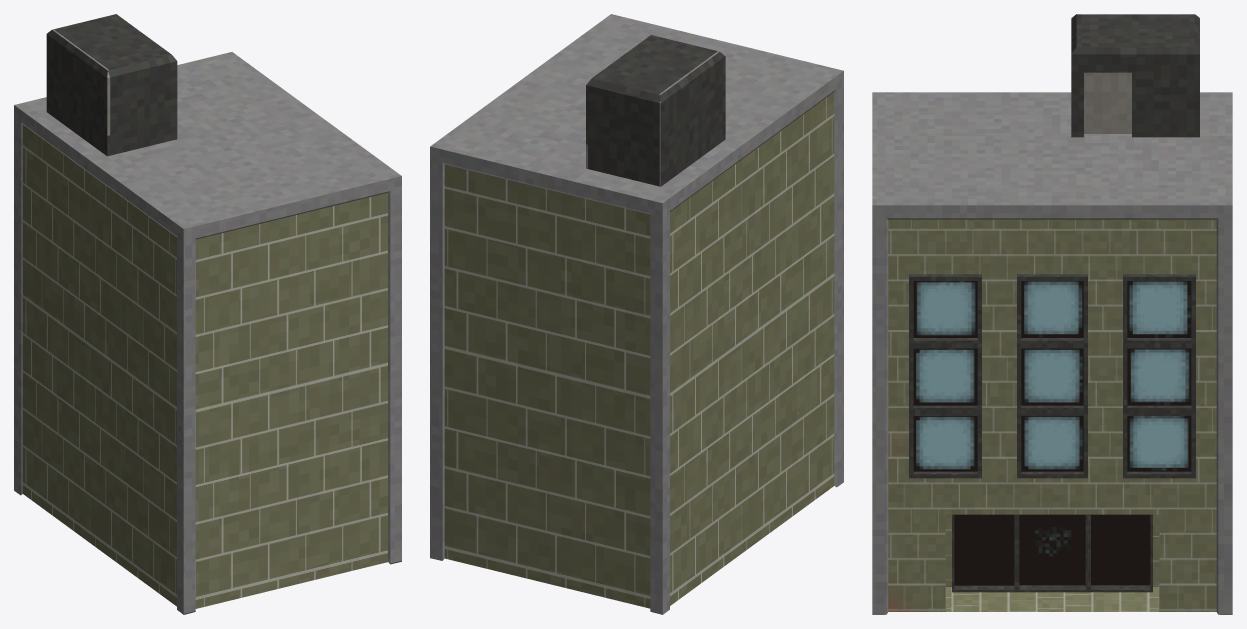
Rendered from build1c1.glb.
3 views of the same model, side by side, from view 1: azimuth 30°, elevation 25°; view 2: azimuth 150°, elevation 25°; view 3: azimuth 270°, elevation 25° (orthographic). The views are drawn at different scales.
Visible parts, largest first — view 1: Cube, roof; view 2: Cube, roof; view 3: front, roof, window, contourfen.
Part boxes in pixels (x1,y1,x2,y2): Cube: [23, 125, 387, 608]; roof: [14, 14, 401, 614]; Cube: [444, 92, 834, 608]; roof: [430, 14, 843, 614]; front: [888, 219, 1216, 611]; roof: [872, 14, 1232, 614]; window: [913, 281, 1191, 585]; contourfen: [909, 274, 1195, 592].
Bounding box in the file's own units: 2.06 × 4.16 × 2.73.
Materials: 5 (5 with a texture image).
